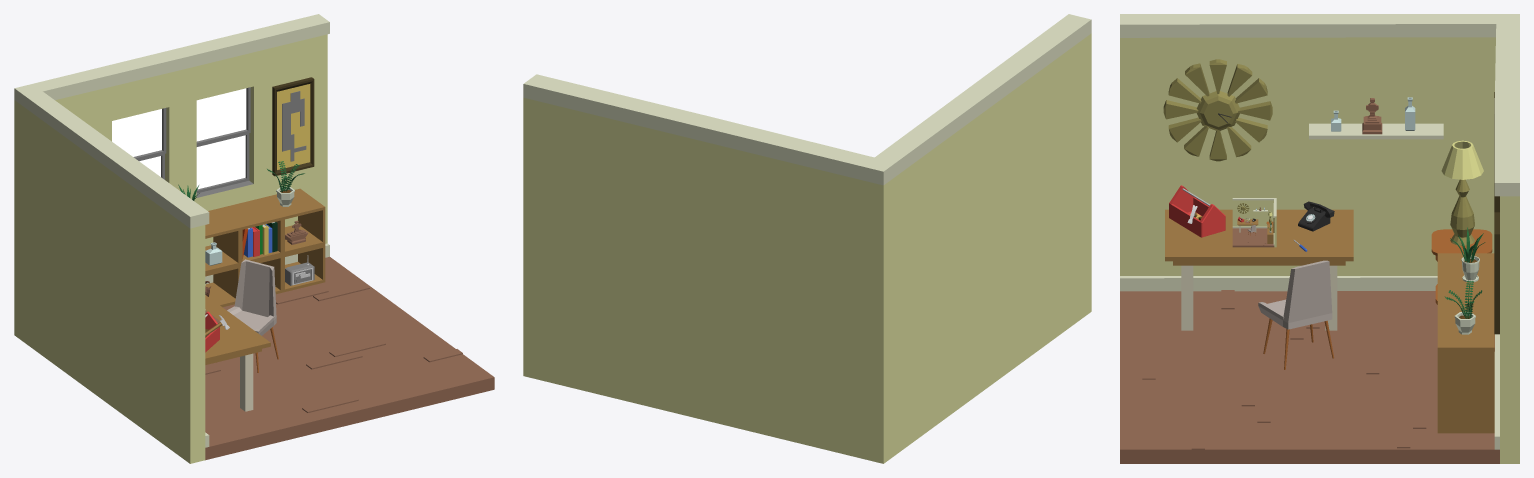
3 views of the same model, side by side, from view 1: azimuth 30°, elevation 25°; view 2: azimuth 150°, elevation 25°; view 3: azimuth 270°, elevation 25° (orthographic). The views are drawn at different scales.
Parts seen in each view (by area): view 1: Floor&Walls_0; view 2: Floor&Walls_0; view 3: Floor&Walls_0.
Boxes of the visible parts, <box> form: Floor&Walls_0: <box>14,14,494,463</box>; Floor&Walls_0: <box>523,14,1091,463</box>; Floor&Walls_0: <box>1120,14,1519,463</box>.
Size of the model in its own units: 18.18 by 14.1 by 18.18.
